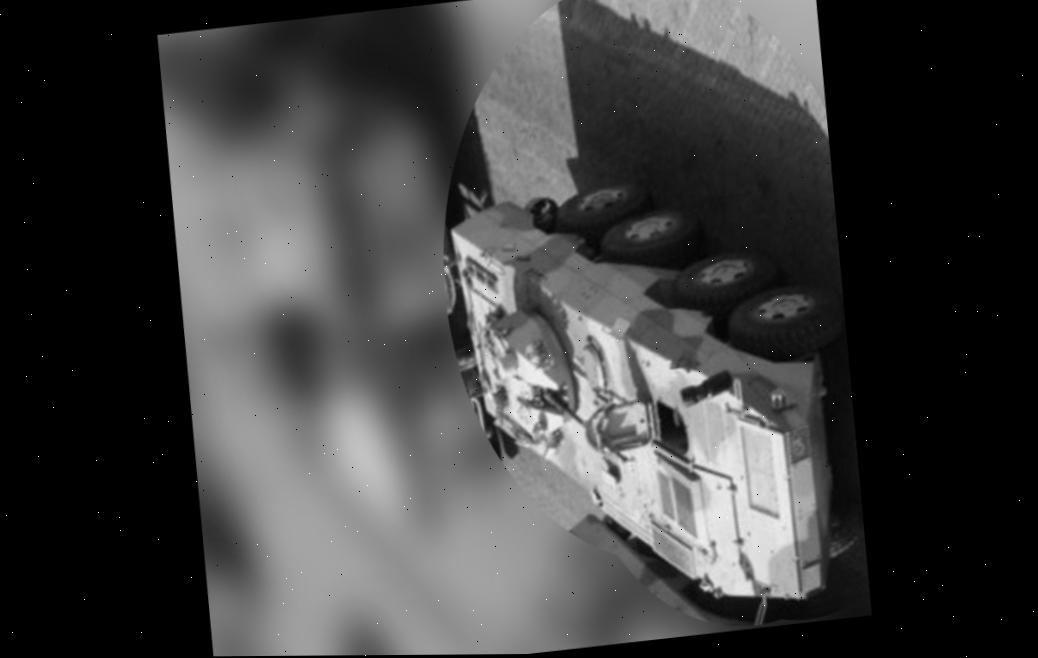armored_car: (434, 145, 877, 644)
